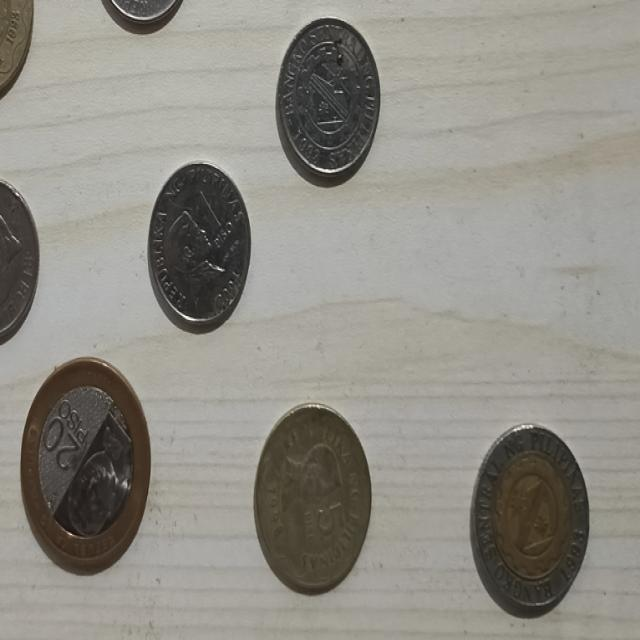10_peso: (471, 425, 588, 615)
1_peso: (149, 163, 250, 330), (277, 18, 379, 173)
20_peso: (21, 358, 150, 573)
5_peso: (254, 405, 370, 591)
